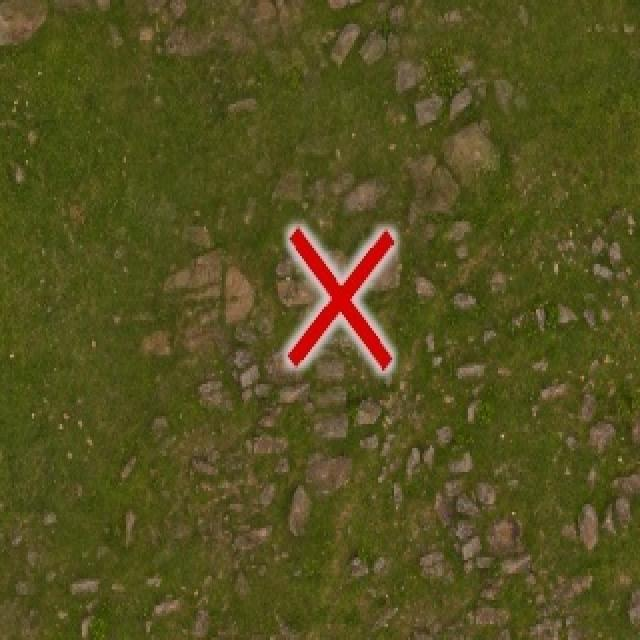x_marker: (287, 228, 393, 369)
